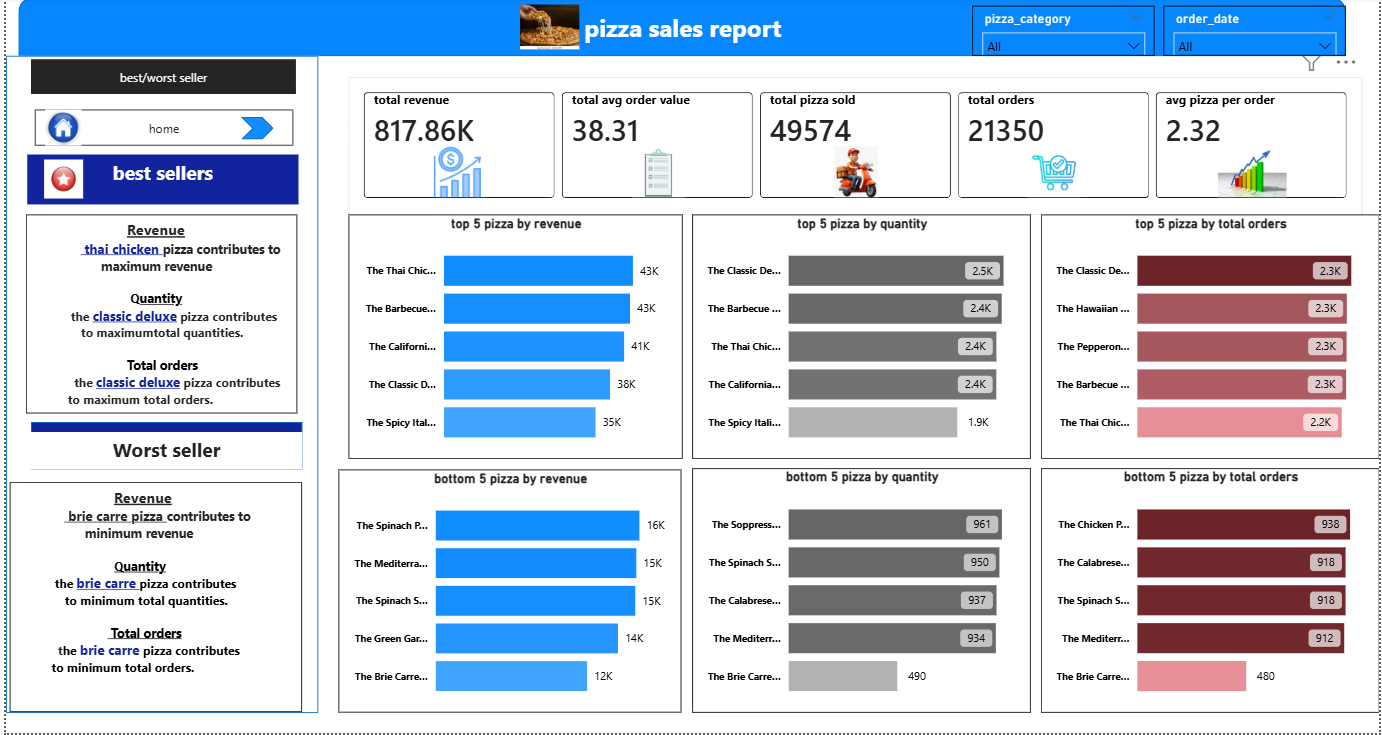

The dashboard page shown, as its layout file describes it:
{"tool":"powerbi","page":{"name":"best/worst seller","canvas":[1519,814],"ordinal":1},"visuals":[{"type":"cardVisual","fields":{"Data":["pizza_sales.total revenue","pizza_sales.total avg order value","pizza_sales.total pizza sold","pizza_sales.total orders","pizza_sales.avg pizza per order"]},"box":[378.8,89.1,1121.1,151.8],"z":0},{"type":"shape","box":[13.9,0,1467.9,65.5],"z":1000},{"type":"textbox","box":[315.2,11.3,866.7,77.2],"z":2000},{"type":"image","box":[479.7,8.3,243.3,49.8],"z":3000},{"type":"slicer","fields":{"Values":["pizza_sales.order_date"]},"box":[1280.2,9.7,201.8,55.3],"z":5000},{"type":"shape","box":[0,65.5,345.4,727],"z":9000},{"type":"textbox","box":[23.5,174.2,300,55.3],"z":10000},{"type":"textbox","box":[22.1,240.6,300,219.8],"z":11000},{"type":"shape","box":[27.6,470,300,52.5],"z":12000},{"type":"textbox","box":[27.6,481.1,300,41.5],"z":13000},{"type":"textbox","box":[4.1,536.4,323.5,254.4],"z":14000},{"type":"slicer","fields":{"Values":["pizza_sales.pizza_category"]},"box":[1068.7,9.7,201.8,55.3],"z":15000},{"type":"barChart","title":"top 5 pizza by revenue","fields":{"Category":["pizza_sales.pizza_name"],"Y":["pizza_sales.total revenue"]},"box":[379.4,241,369.7,270.3],"z":15001},{"type":"barChart","title":"bottom 5 pizza by revenue","fields":{"Category":["pizza_sales.pizza_name"],"Y":["pizza_sales.total revenue"]},"box":[368,522.7,379.4,268.7],"z":15002},{"type":"barChart","title":"top 5 pizza by quantity","fields":{"Category":["pizza_sales.pizza_name"],"Y":["pizza_sales.total pizza sold"]},"box":[758.9,241,374.5,270.3],"z":15003},{"type":"barChart","title":"bottom 5 pizza by quantity","fields":{"Category":["pizza_sales.pizza_name"],"Y":["pizza_sales.total pizza sold"]},"box":[758.9,521.1,374.5,270.3],"z":15004},{"type":"barChart","title":"top 5 pizza by total orders","fields":{"Category":["pizza_sales.pizza_name"],"Y":["pizza_sales.total orders"]},"box":[1144.8,241,374.5,270.3],"z":15005},{"type":"barChart","title":"bottom 5 pizza by total orders","fields":{"Category":["pizza_sales.pizza_name"],"Y":["pizza_sales.total orders"]},"box":[1144.8,521.1,374.5,270.3],"z":15006},{"type":"pageNavigator","box":[27.6,69.1,293.1,38.7],"z":15007},{"type":"pageNavigator","box":[31.8,124.4,286.2,40.1],"z":15008},{"type":"shape","box":[259.9,132.7,35.9,24.9],"z":15009},{"type":"image","box":[4.1,124.4,118.9,40.1],"z":15010},{"type":"image","box":[22.1,179.7,82.9,42.9],"z":15011}]}

Visuals, with their boxes in screenshot pixels (x1, y1, x2, y2), scaled from the page's 1519x814 canvas onto the 1382x735 screenshot:
cardVisual - pizza_sales.total revenue x pizza_sales.total avg order value: 345:80:1365:218
shape: 13:0:1348:59
textbox: 287:10:1075:80
image: 436:7:658:52
slicer - pizza_sales.order_date: 1165:9:1348:59
shape: 0:59:314:716
textbox: 21:157:294:207
textbox: 20:217:293:416
shape: 25:424:298:472
textbox: 25:434:298:472
textbox: 4:484:298:714
slicer - pizza_sales.pizza_category: 972:9:1156:59
"top 5 pizza by revenue" barChart: 345:218:682:462
"bottom 5 pizza by revenue" barChart: 335:472:680:715
"top 5 pizza by quantity" barChart: 690:218:1031:462
"bottom 5 pizza by quantity" barChart: 690:471:1031:715
"top 5 pizza by total orders" barChart: 1042:218:1381:462
"bottom 5 pizza by total orders" barChart: 1042:471:1381:715
pageNavigator: 25:62:292:97
pageNavigator: 29:112:289:149
shape: 236:120:269:142
image: 4:112:112:149
image: 20:162:96:201
